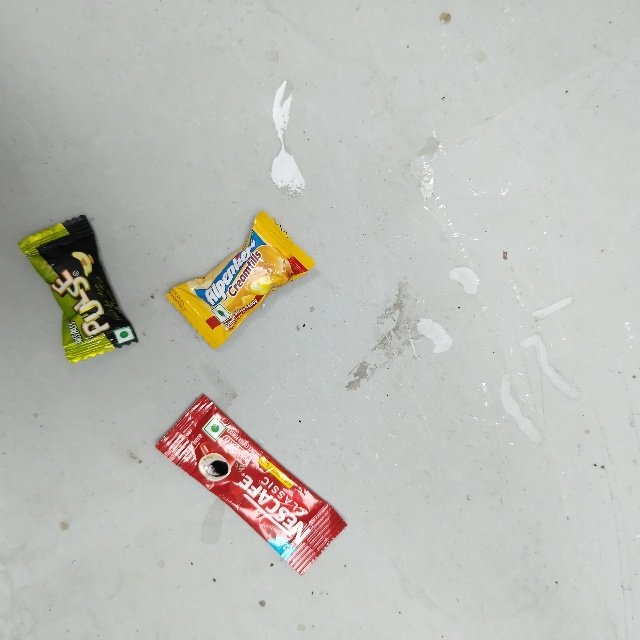Alpenlibe Creamfills: (164, 296, 303, 374), (23, 143, 42, 145)
Nescafe Coffee: (150, 444, 227, 640)
Pulse: (15, 238, 94, 384)
